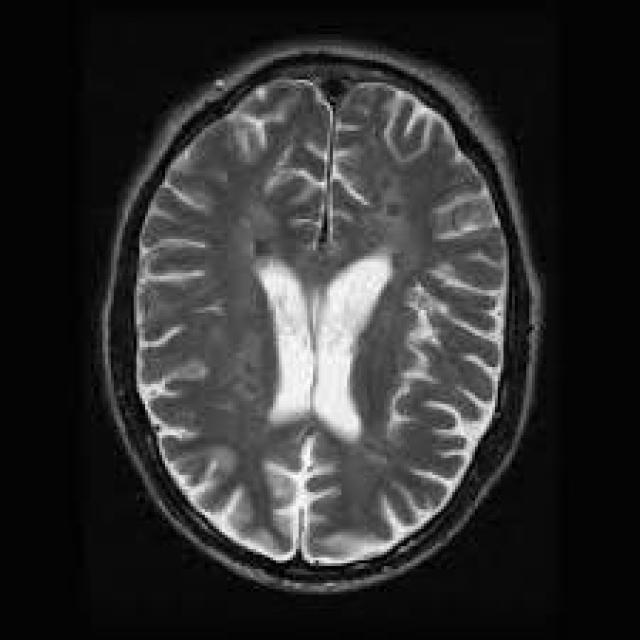notumor: (102, 43, 540, 589)
